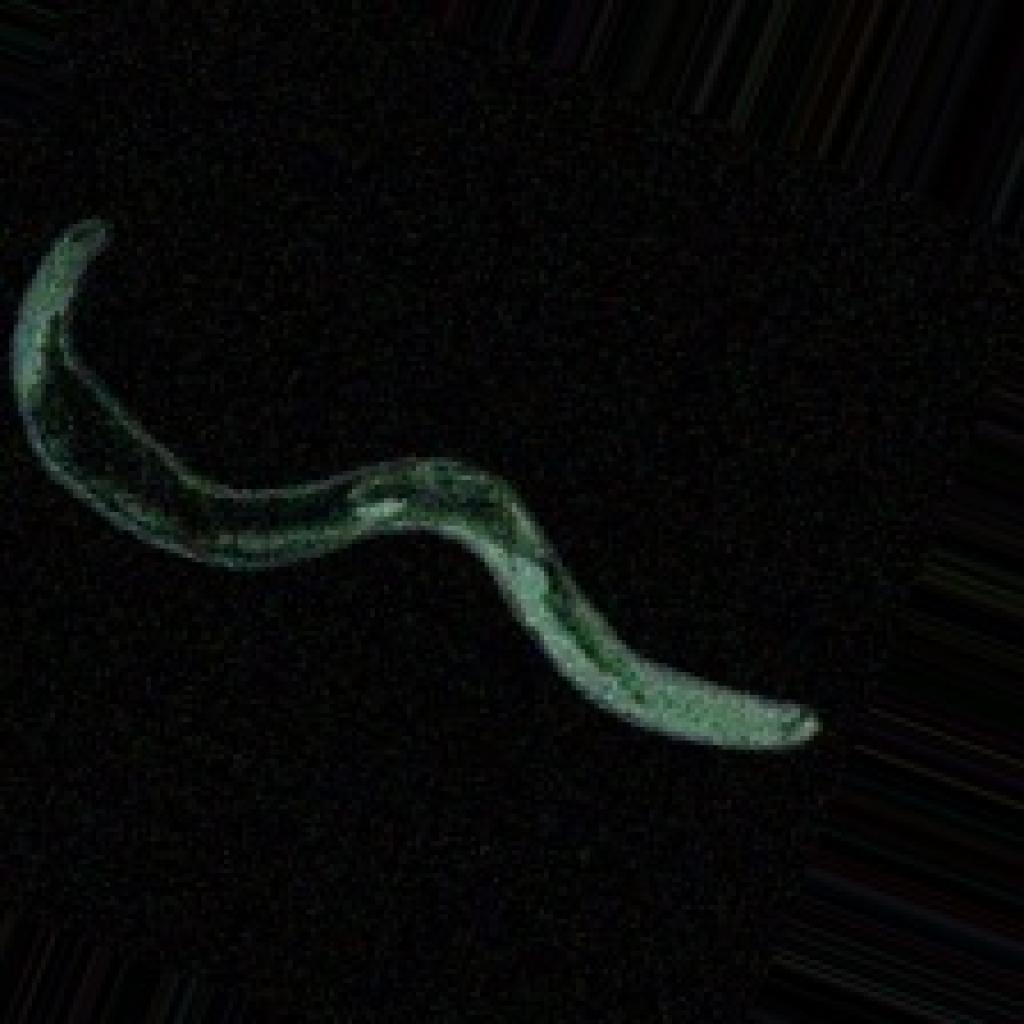Nematode: (0, 0, 1019, 1019), (0, 206, 827, 759)
